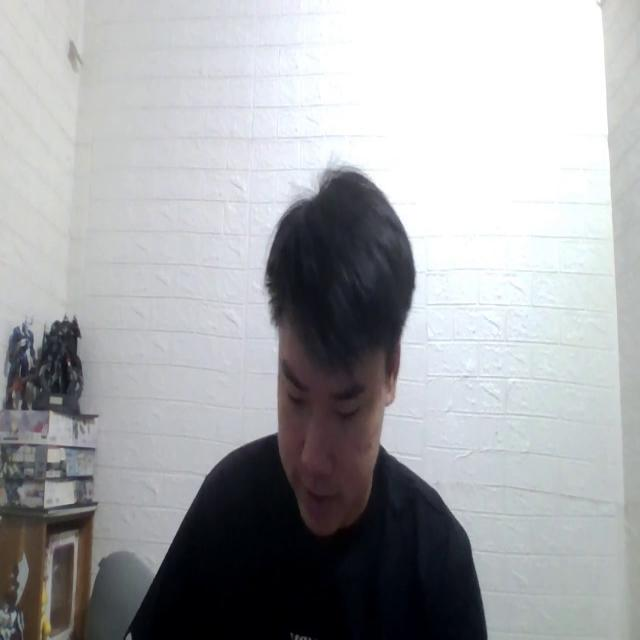student: (122, 157, 491, 640)
